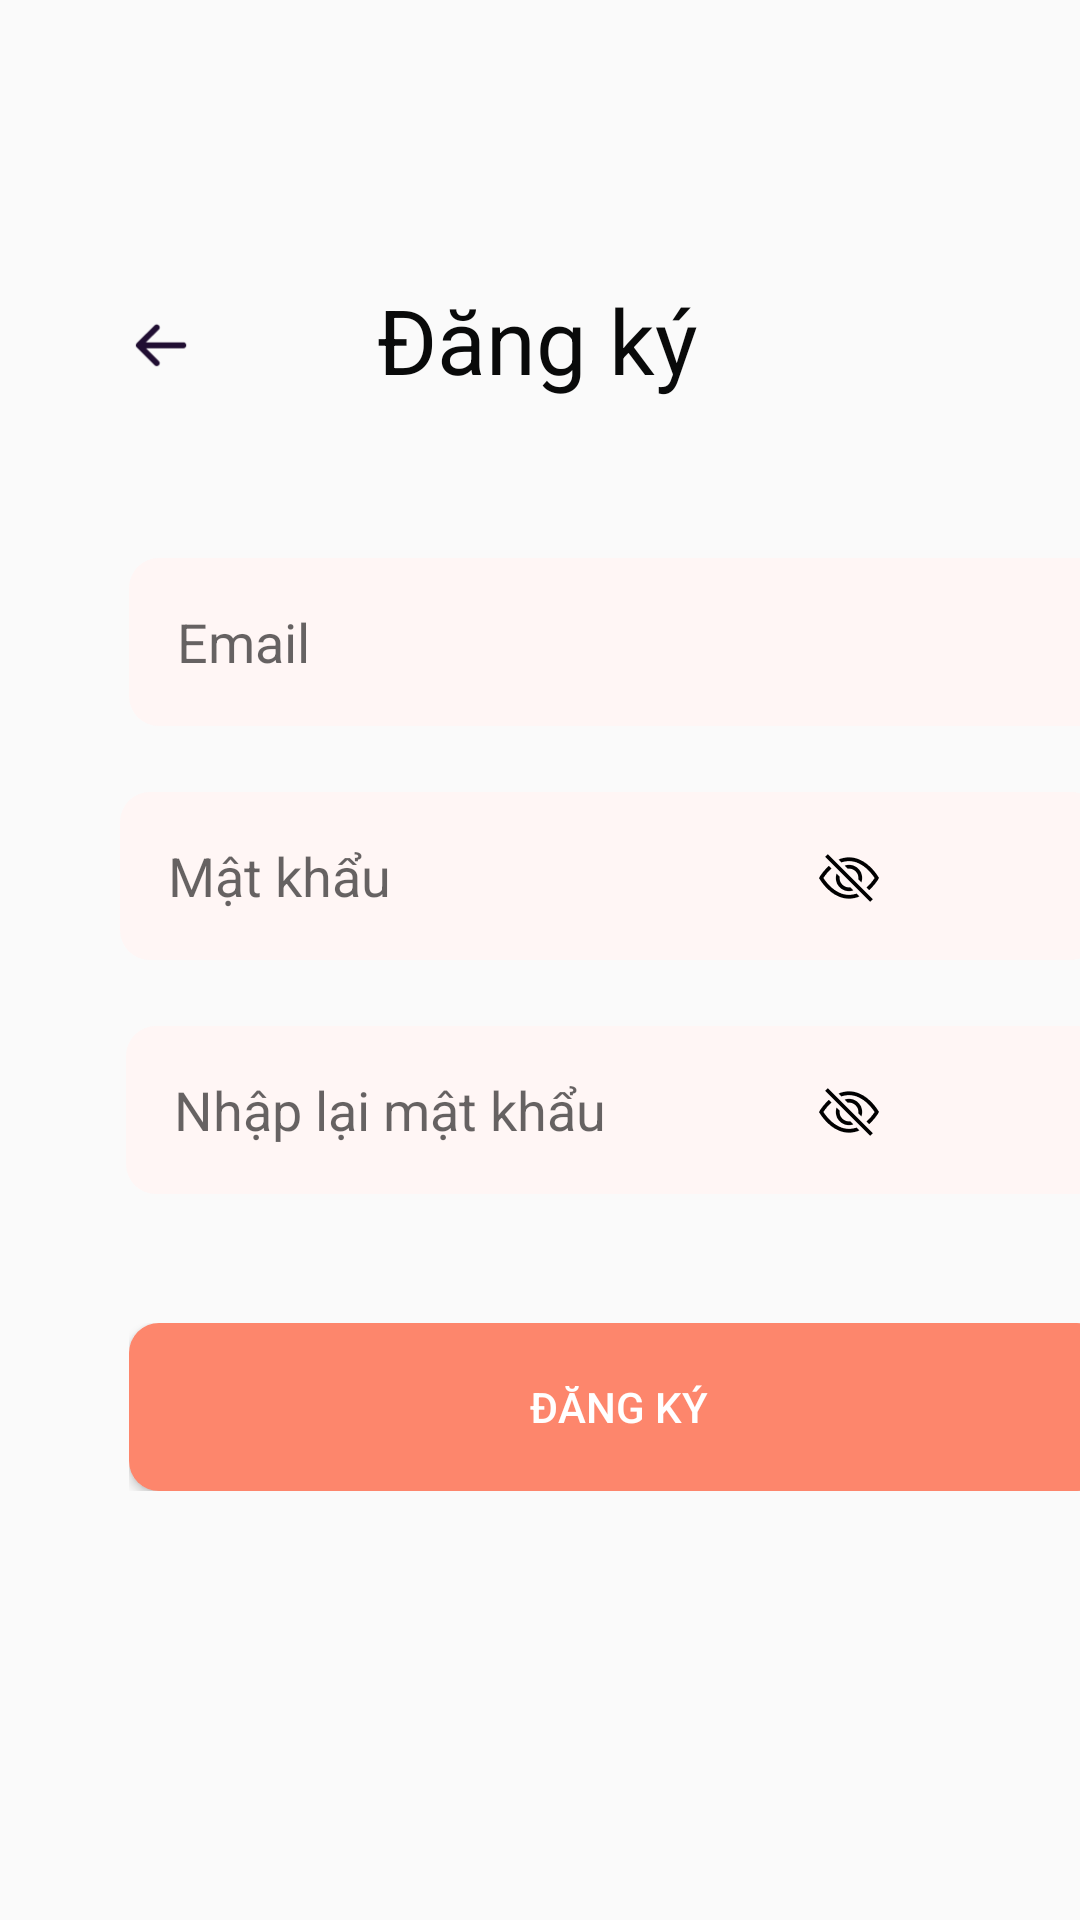

Icons on this 1080x1920 Android screen, each with its box as (x1, y1, x2, y2):
arrow left: (135, 324, 187, 367)
eye slash: (819, 854, 879, 902), (819, 1088, 879, 1136)
